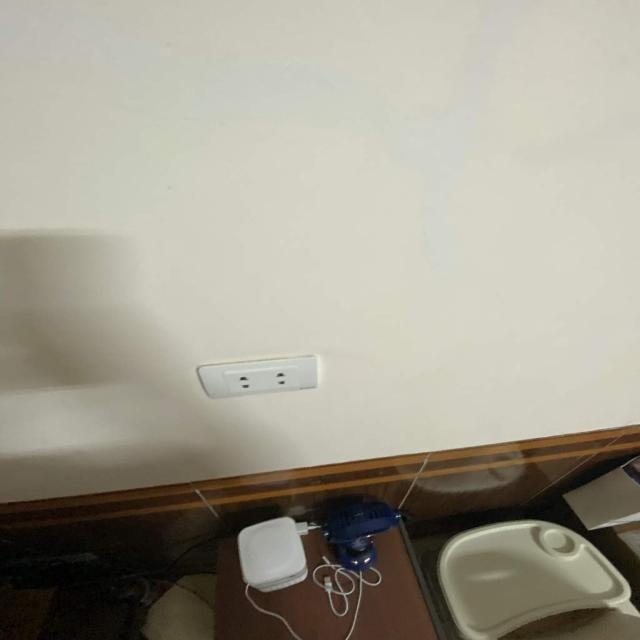outlet: (196, 354, 319, 398)
